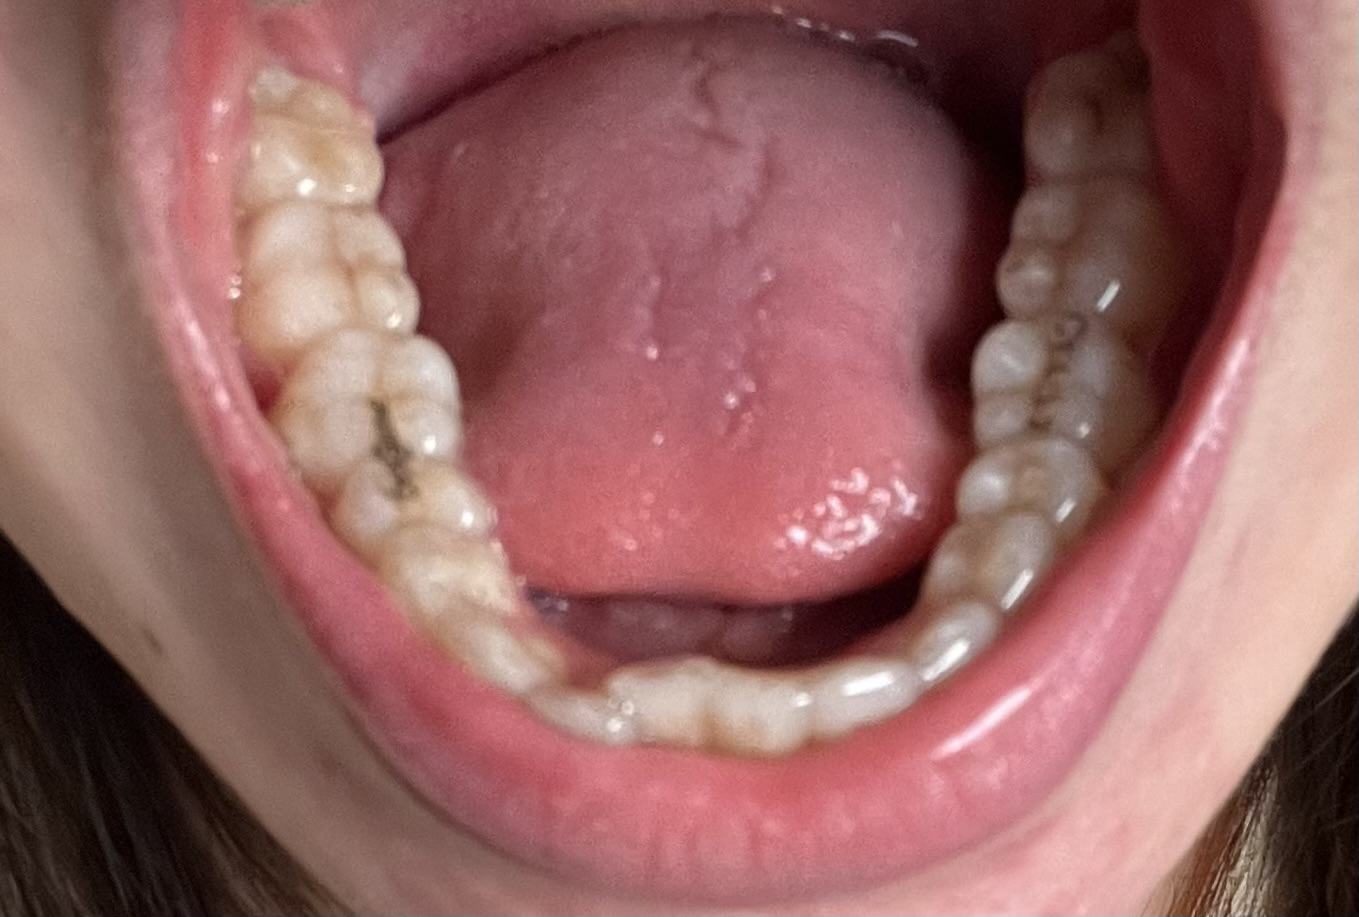teeth: (272, 333, 466, 505), (244, 206, 420, 359), (968, 321, 1156, 461), (1001, 188, 1181, 327), (238, 70, 384, 204), (1029, 52, 1155, 176), (924, 508, 1061, 615), (336, 463, 496, 553), (964, 442, 1107, 533), (391, 528, 516, 618), (713, 664, 816, 756), (911, 589, 1003, 688), (804, 656, 916, 736), (450, 613, 571, 687), (613, 655, 713, 741), (533, 684, 634, 739)
